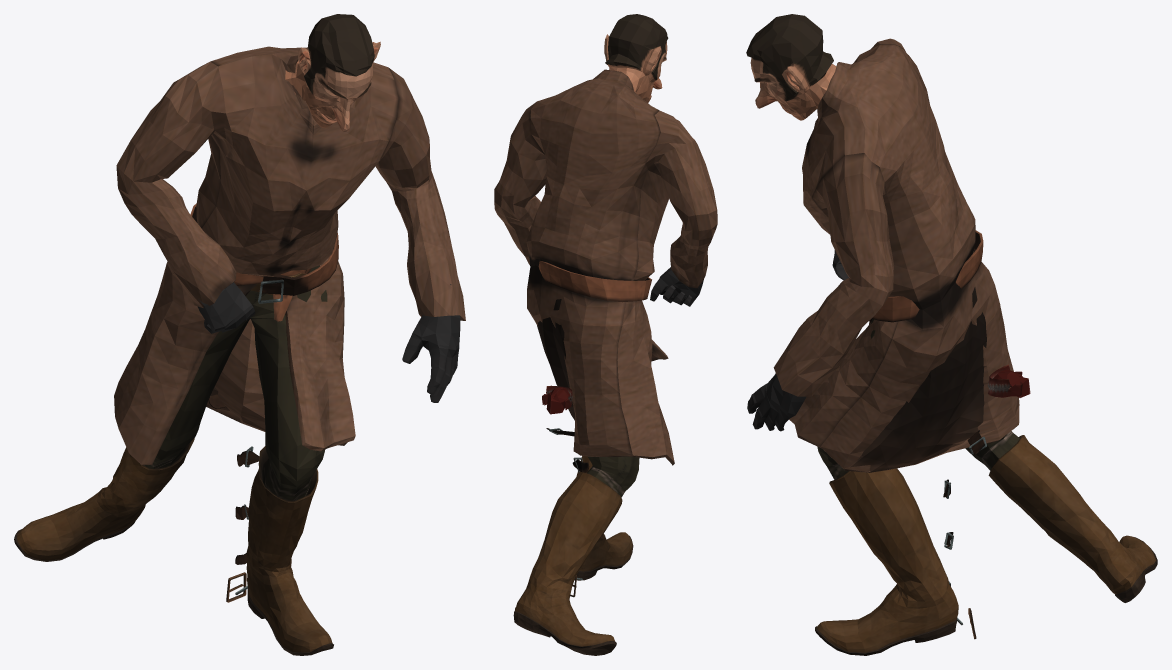
Rendered from sniper-inj-walk_joined_000018.obj.
The picture shows the model from 3 angles, left to right: view 1: azimuth 30°, elevation 25°; view 2: azimuth 150°, elevation 25°; view 3: azimuth 270°, elevation 25°; orthographic projection. The views are drawn at different scales.
Visible parts, largest first — view 1: Shoes; view 2: Shoes; view 3: Shoes.
Boxes of the visible parts, x1,y1,x2,y2 form: Shoes: (14, 14, 465, 655); Shoes: (494, 14, 717, 655); Shoes: (746, 14, 1157, 655).
Bounding box in the file's own units: 1.09 × 2.33 × 1.38.
